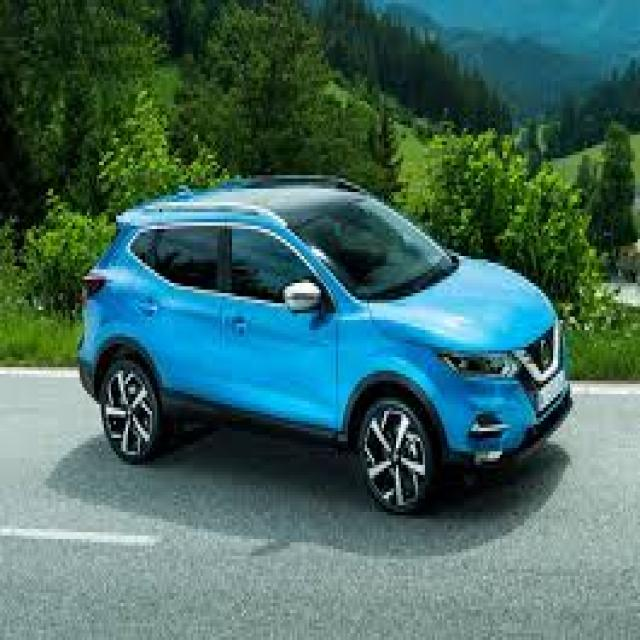Car: (72, 174, 575, 516)
